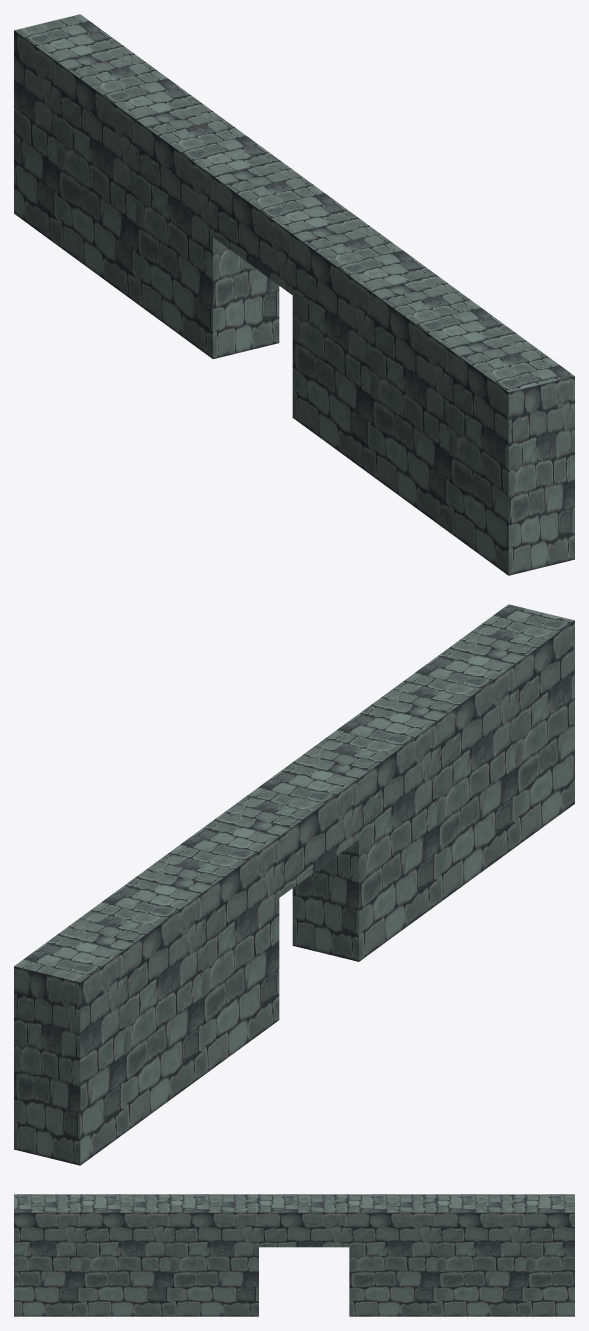
File: Textured_DoorWall.FBX
The picture shows the model from 3 angles, top to bottom: view 1: azimuth 30°, elevation 25°; view 2: azimuth 150°, elevation 25°; view 3: azimuth 270°, elevation 25°; orthographic projection. The views are drawn at different scales.
Visible parts, largest first — view 1: Box001; view 2: Box001; view 3: Box001.
Part boxes in pixels (left/top/right/bottom): Box001: left=14, top=14, right=574, bottom=575; Box001: left=14, top=604, right=574, bottom=1165; Box001: left=14, top=1194, right=574, bottom=1316.
Bounding box in the file's own units: 9.63 × 25.42 × 124.
